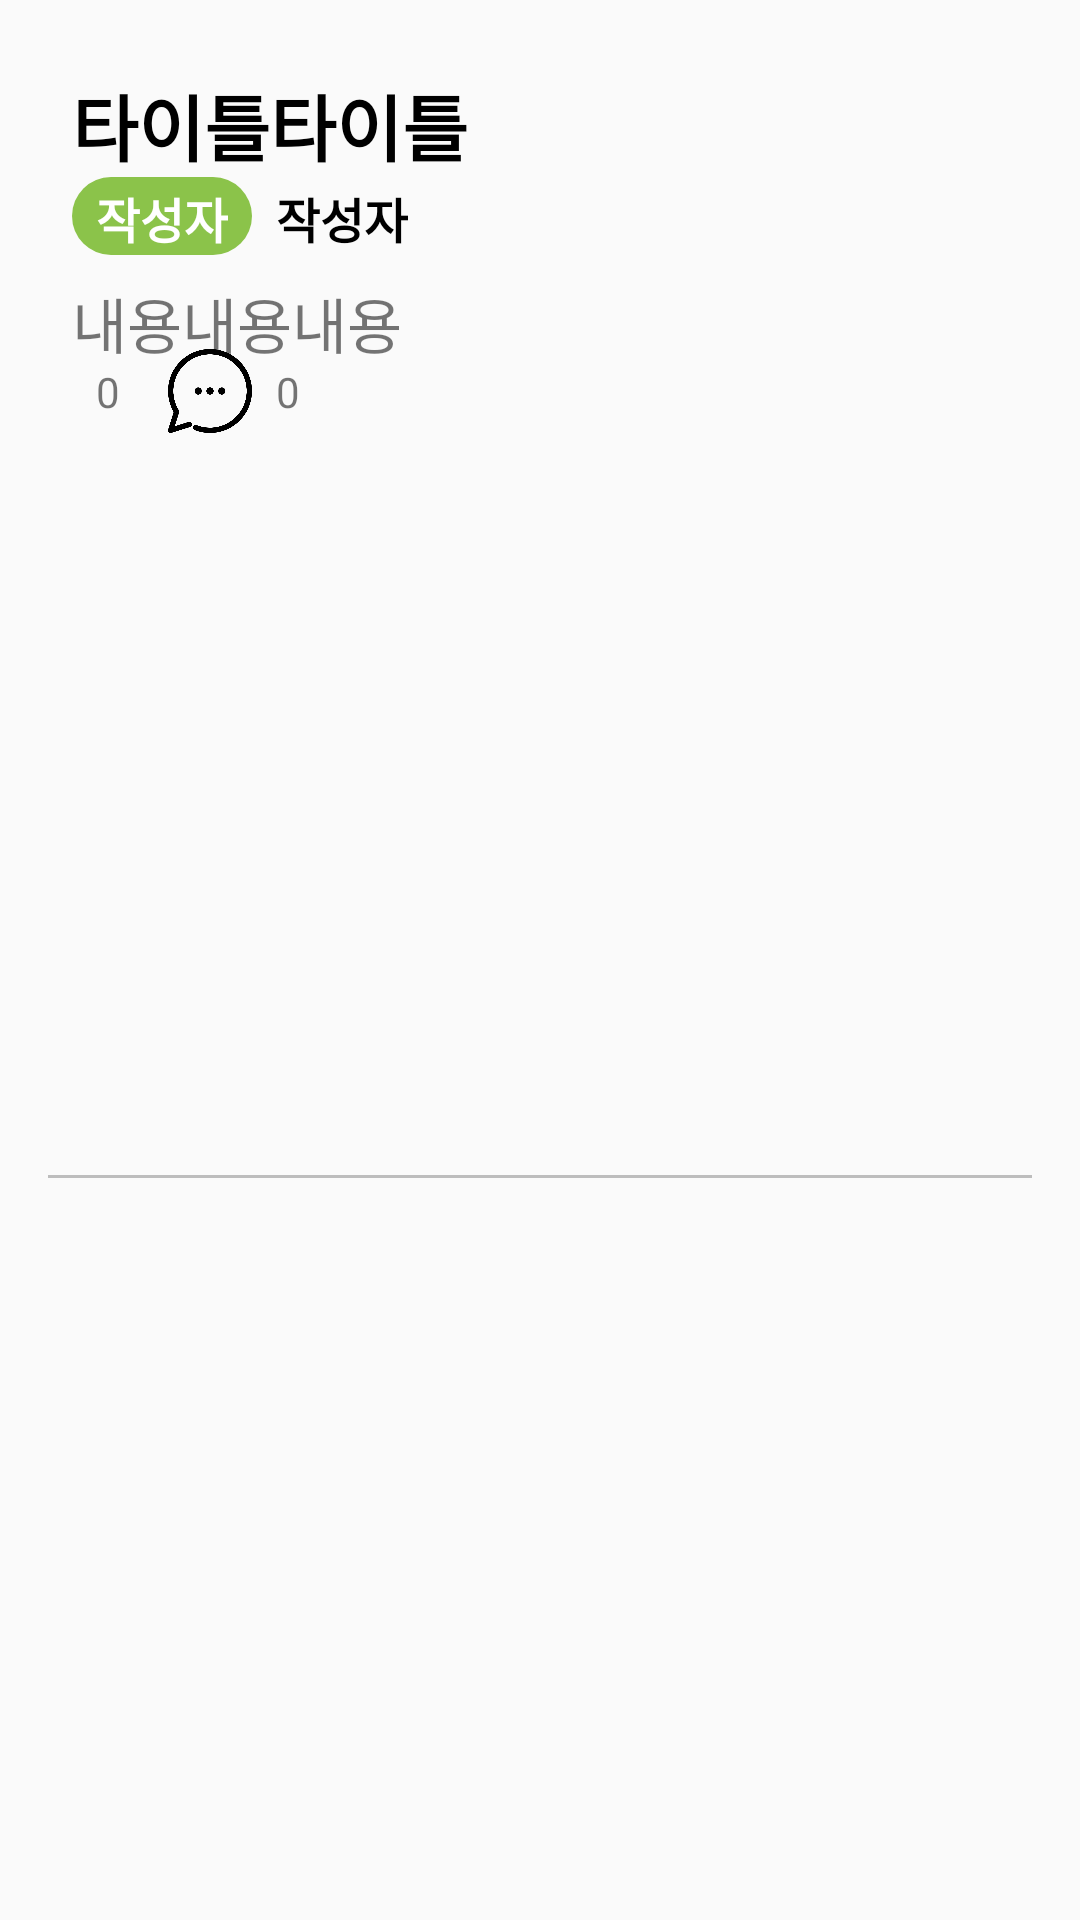

Where to tap for icons on this 1080*1920 app screen, as point (x, y):
comment: point (210, 391)
